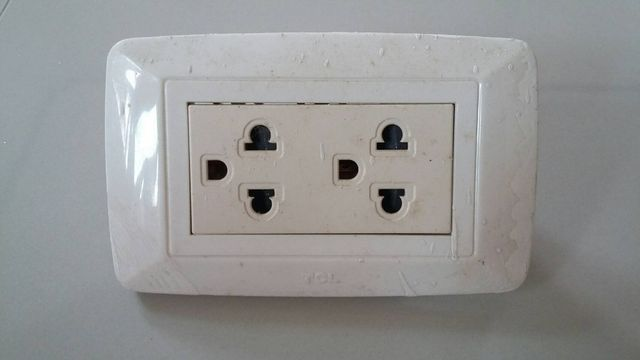Three_eye_plug: (93, 26, 545, 310)
